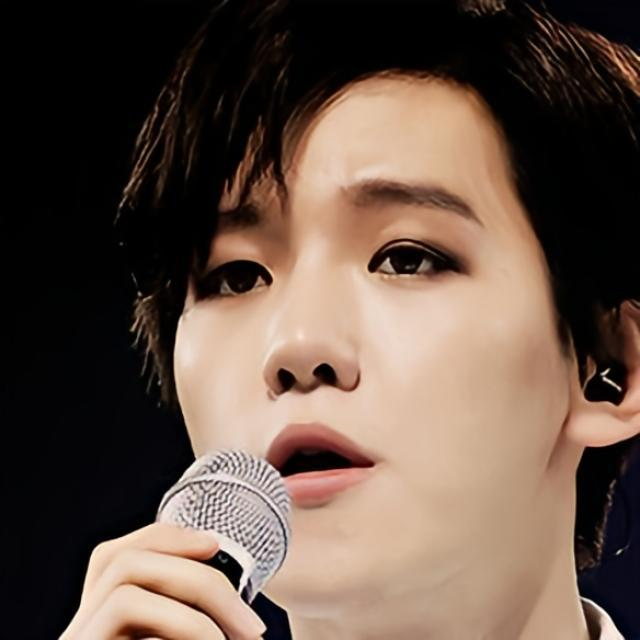surprise: (172, 65, 566, 619)
